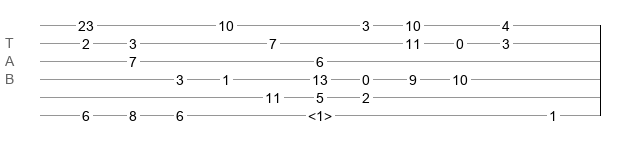0: (362, 72, 370, 82), (456, 36, 464, 46)
1: (222, 72, 230, 82), (549, 108, 557, 118)
10: (218, 18, 234, 28), (405, 18, 421, 28), (452, 72, 468, 82)
11: (265, 90, 281, 100), (405, 36, 421, 46)
13: (312, 72, 328, 82)
2: (82, 36, 90, 46), (362, 90, 370, 100)
23: (78, 18, 94, 28)
3: (129, 36, 137, 46), (176, 72, 184, 82), (362, 18, 370, 28), (502, 36, 510, 46)
4: (502, 18, 510, 28)
5: (316, 90, 324, 100)
6: (82, 108, 90, 118), (176, 108, 184, 118), (316, 54, 324, 64)
7: (129, 54, 137, 64), (269, 36, 277, 46)
8: (129, 108, 137, 118)
9: (409, 72, 417, 82)
harmonic: (308, 108, 332, 118)
